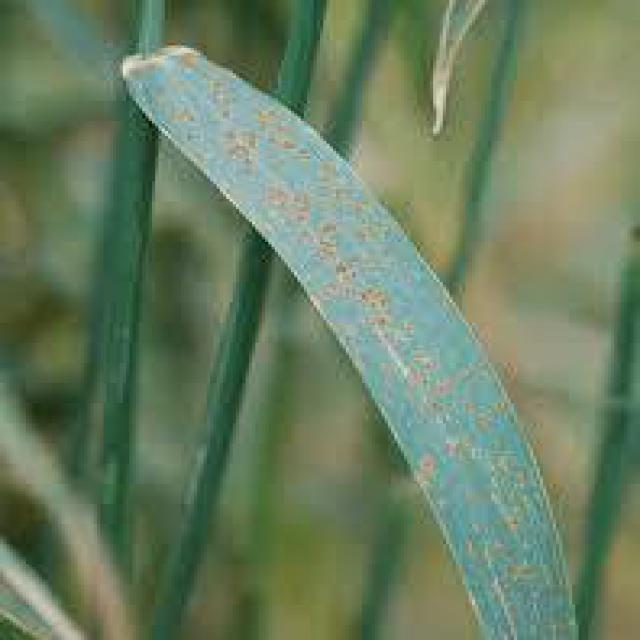wheat-stemrust: (120, 45, 579, 640)
